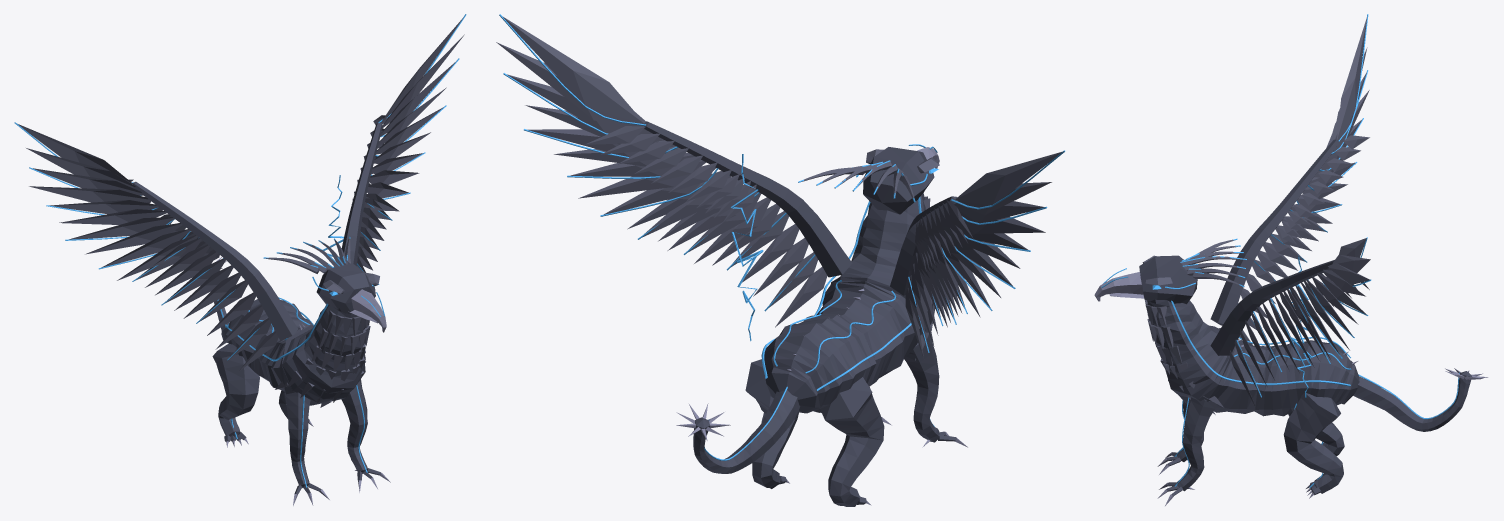
File: Grifo.obj
The picture shows the model from 3 angles, left to right: view 1: azimuth 30°, elevation 25°; view 2: azimuth 150°, elevation 25°; view 3: azimuth 270°, elevation 25°; orthographic projection. The views are drawn at different scales.
Parts seen in each view (by area): view 1: Grifo_Plumaje, Grifo_Cuerpo, Grifo_Cuerpo2, Grifo_Brillo, Grifo_Hueso; view 2: Grifo_Cuerpo, Grifo_Plumaje, Grifo_Brillo, Grifo_Cuerpo2, Grifo_Hueso; view 3: Grifo_Cuerpo, Grifo_Plumaje, Grifo_Brillo, Grifo_Cuerpo2, Grifo_Hueso.
Boxes of the visible parts, left/top/right/bottom form: Grifo_Plumaje: left=18, top=17, right=464, bottom=370; Grifo_Cuerpo: left=132, top=122, right=382, bottom=494; Grifo_Cuerpo2: left=266, top=238, right=379, bottom=407; Grifo_Brillo: left=14, top=14, right=466, bottom=487; Grifo_Hueso: left=216, top=257, right=390, bottom=505; Grifo_Cuerpo: left=644, top=121, right=957, bottom=506; Grifo_Plumaje: left=496, top=16, right=1062, bottom=359; Grifo_Brillo: left=499, top=14, right=1065, bottom=460; Grifo_Cuerpo2: left=801, top=149, right=939, bottom=363; Grifo_Hueso: left=676, top=147, right=967, bottom=505; Grifo_Cuerpo: left=1139, top=139, right=1471, bottom=496; Grifo_Plumaje: left=1229, top=16, right=1370, bottom=406; Grifo_Brillo: left=1101, top=14, right=1459, bottom=487; Grifo_Cuerpo2: left=1142, top=239, right=1244, bottom=414; Grifo_Hueso: left=1094, top=272, right=1488, bottom=505.
Bounding box in the file's own units: 5.68 × 4.25 × 4.25.
